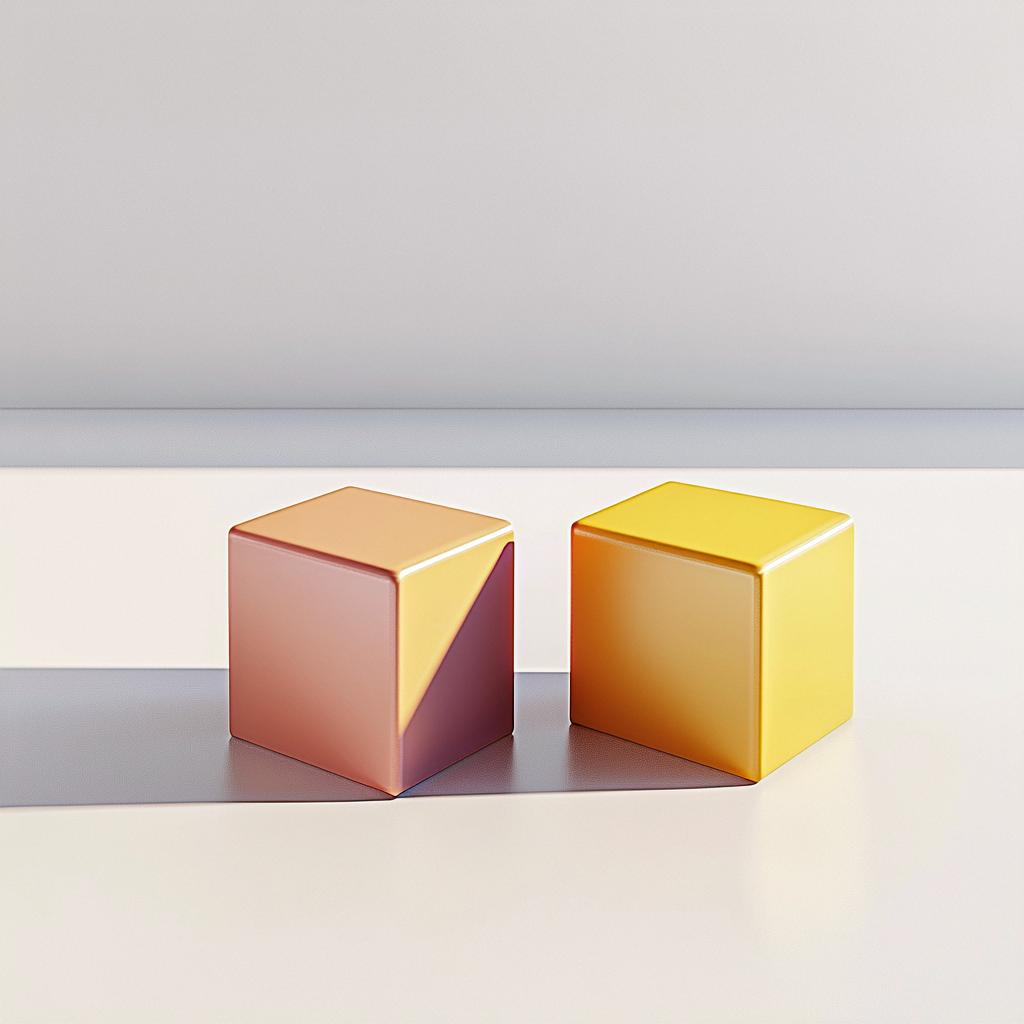cube: (226, 483, 516, 797), (568, 479, 854, 783)
